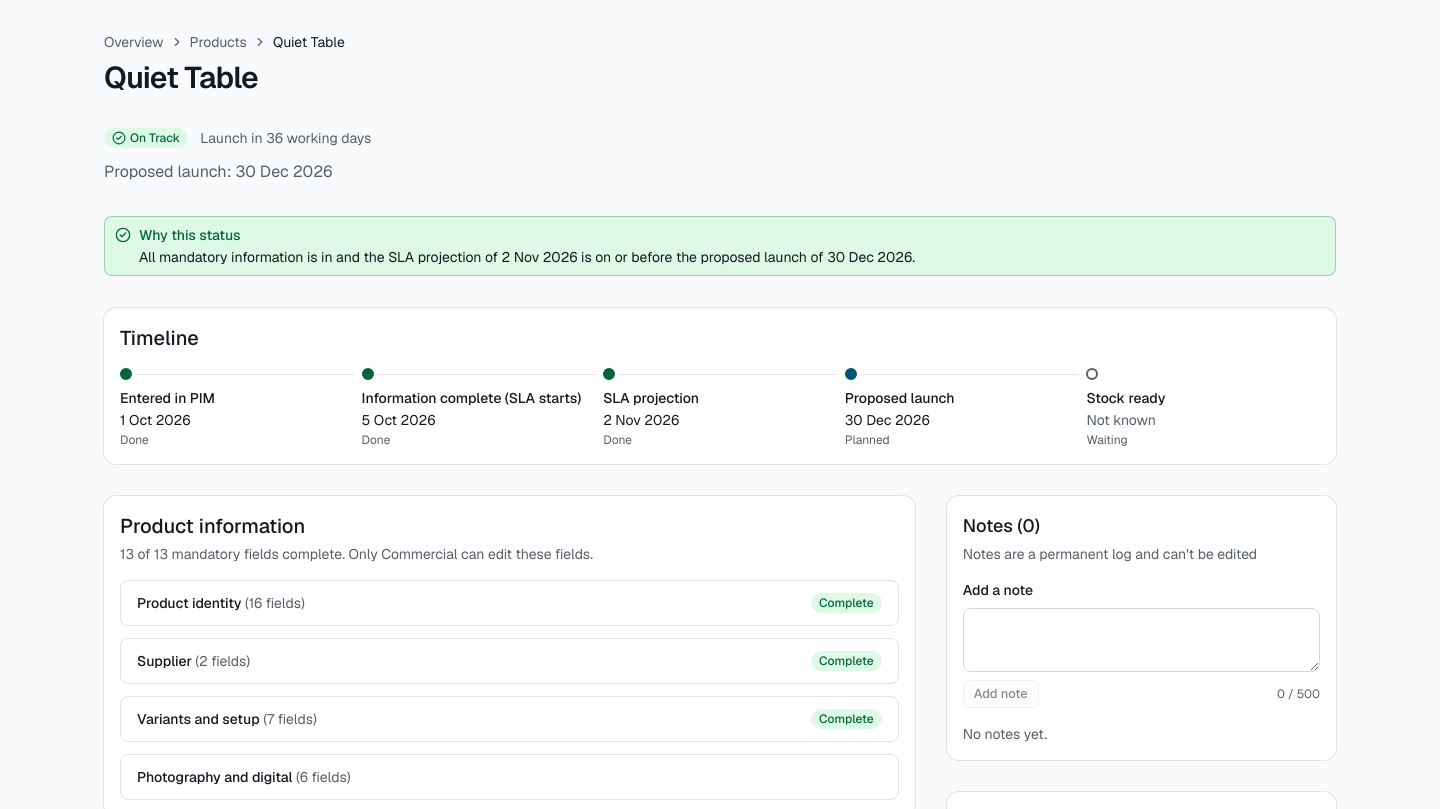
ProductNotes › lets the downstream team add notes as the downstream author
In the text box labelled "Add a note": coordinates (1141, 640) [963,608,1320,672], type "Needs a lifestyle shot"
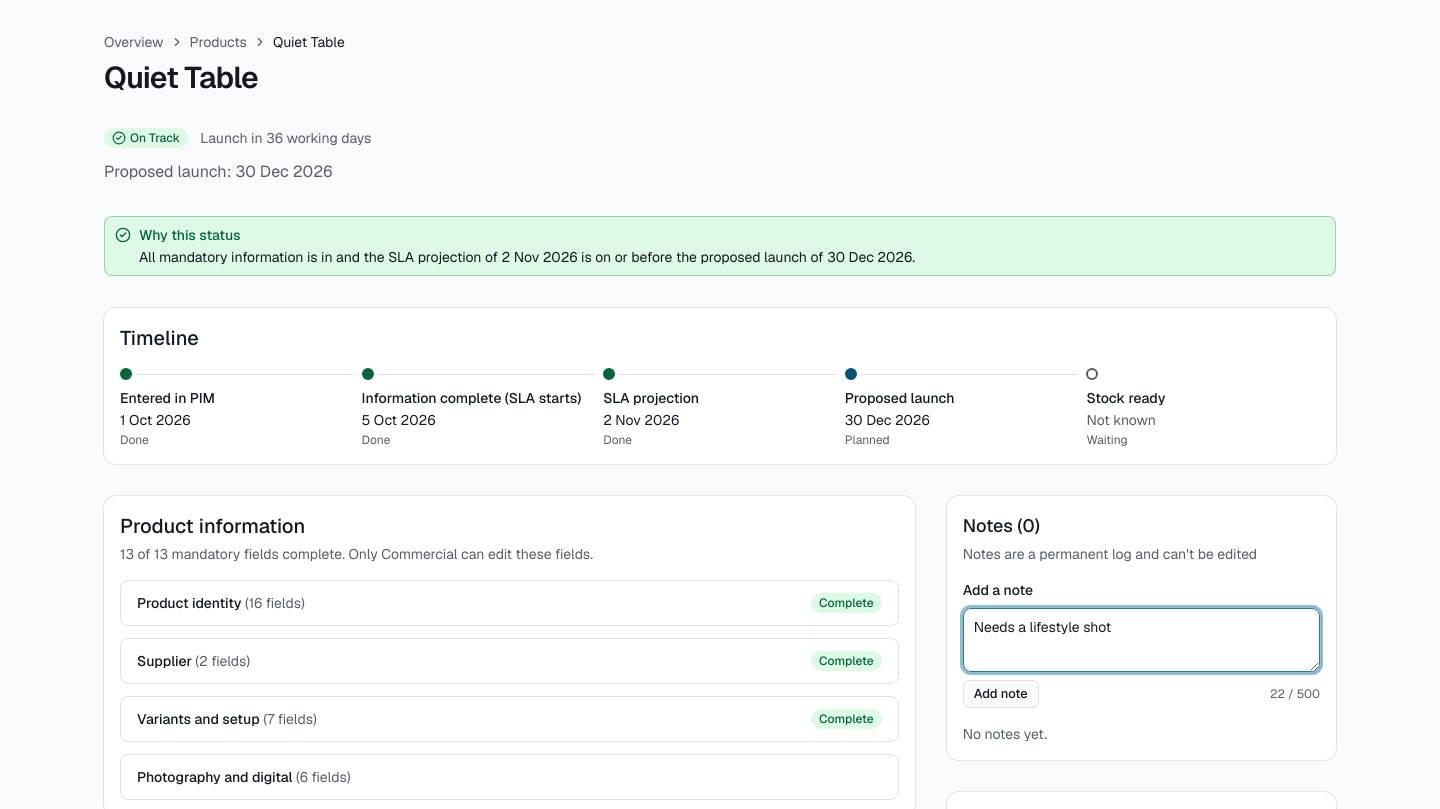
Click the button "Add note": coordinates (1001, 694) [963,680,1039,708]
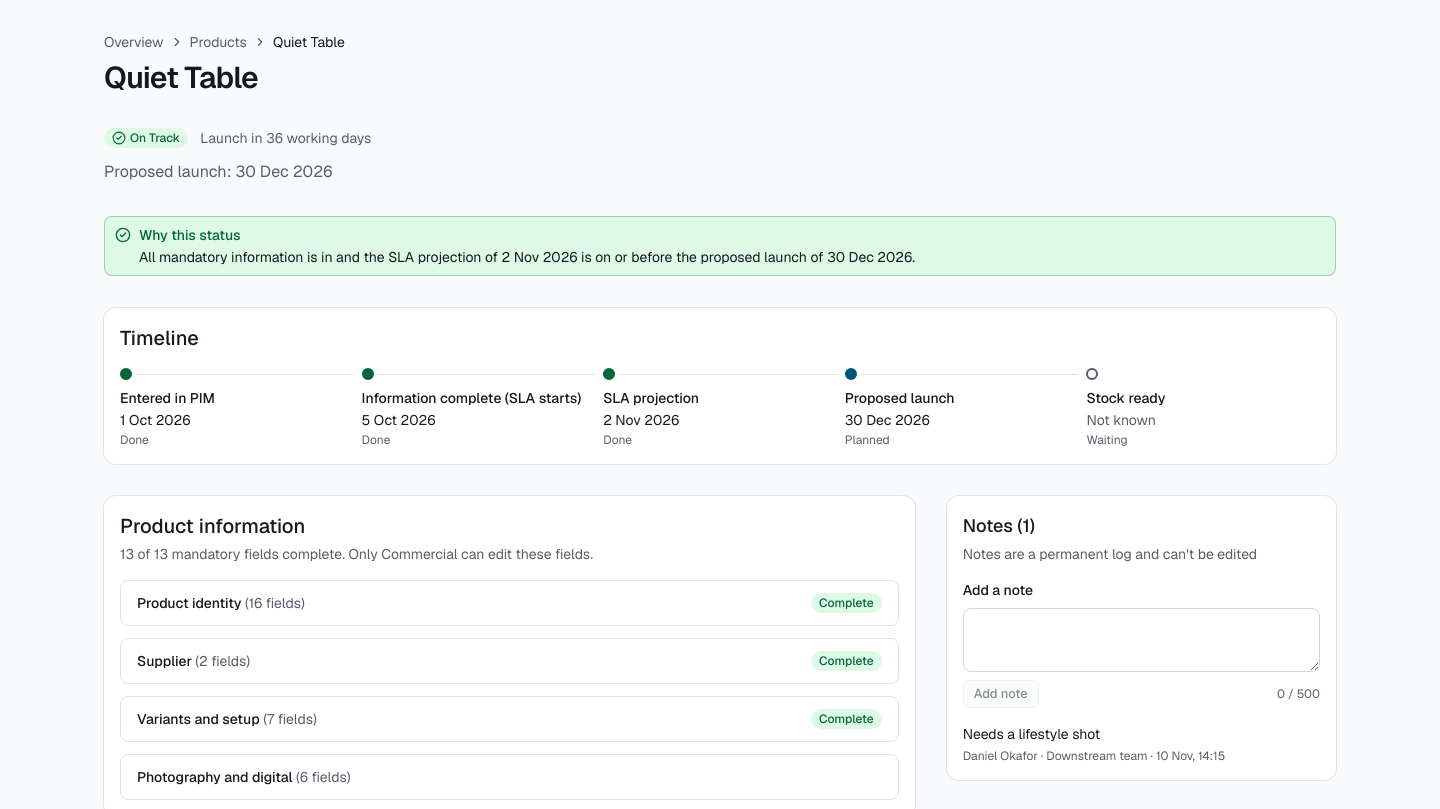
Now the text "Daniel Okafor · Downstream team · 10 Nov, 14:15" is shown, box [963,748,1225,764]
